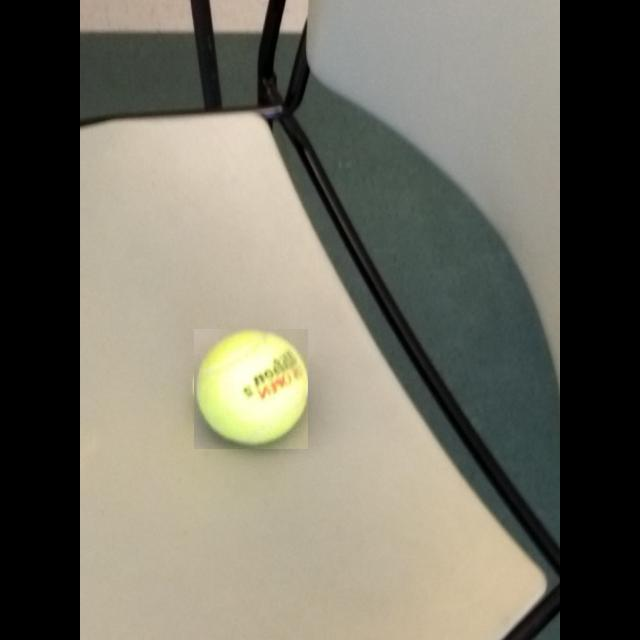tennis ball: (194, 329, 308, 449)
